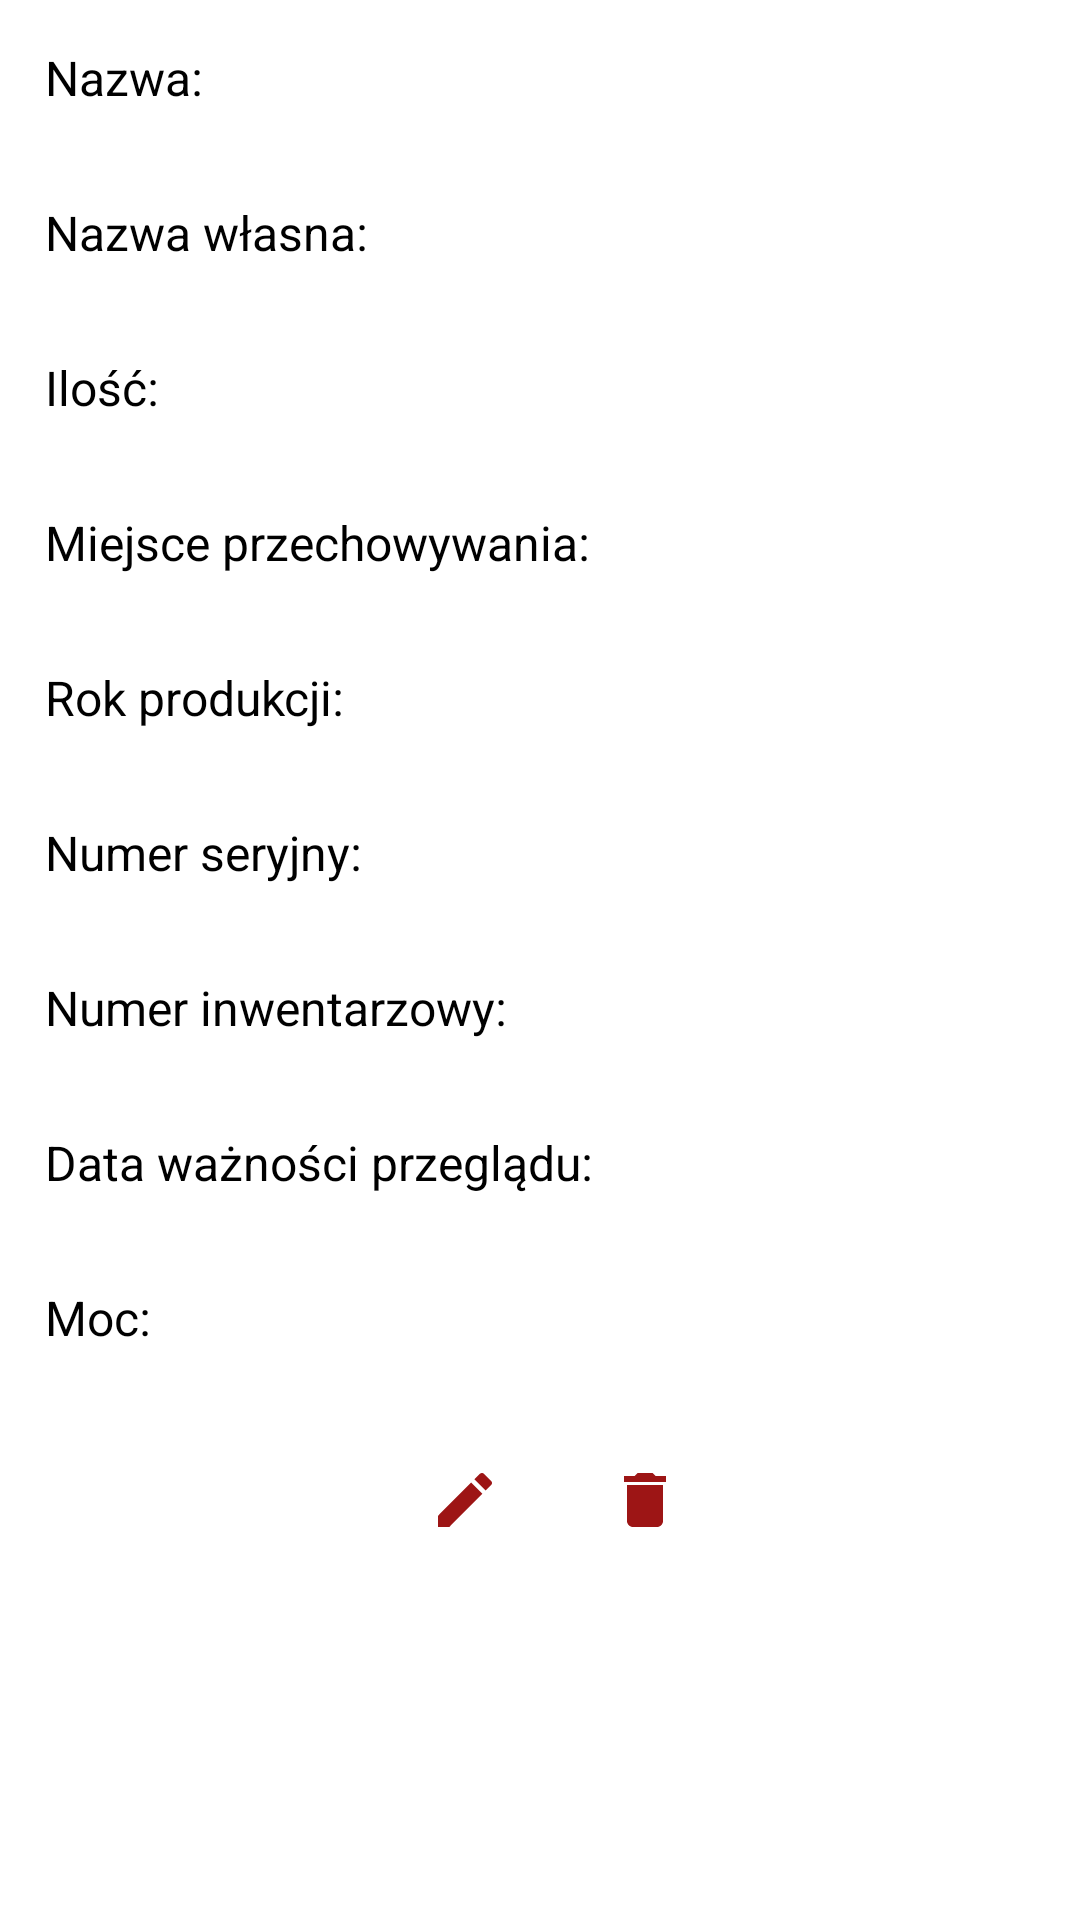

Named icons in this screenshot (1080 × 1920) and their bounding boxes, (x1, y1, x2, y2):
delete: (624, 1473, 666, 1527)
edit: (438, 1473, 492, 1527)
